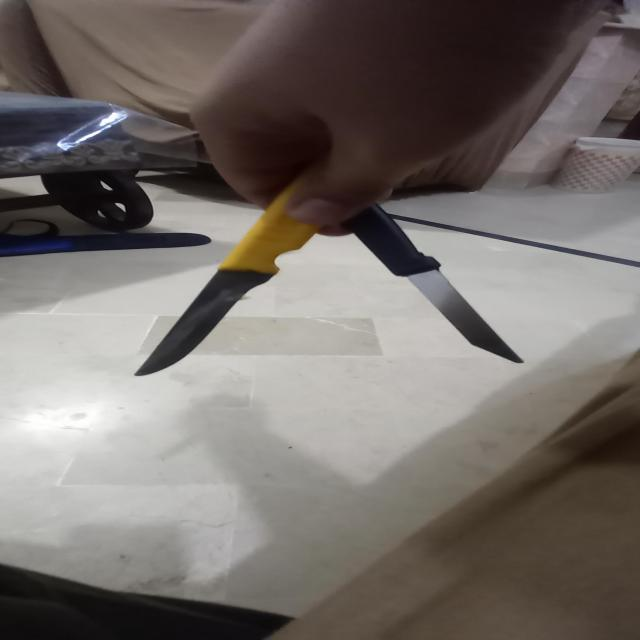Knife: (132, 173, 338, 375), (345, 197, 526, 362)
Person: (190, 0, 610, 233)
